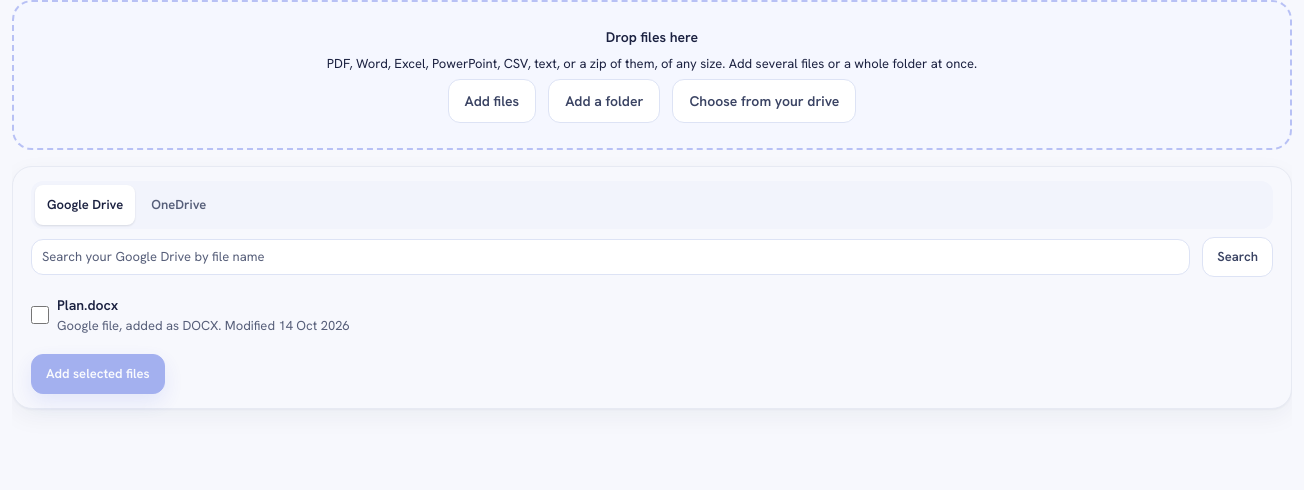
Scenario: Google Drive: files are listed by the server and an added one is fetched into the same path
expect the text "Plan.docx" is shown: met, box [57, 296, 118, 314]
expect the text "Google file, added as DOCX. Modified 14 Oct 2026" is shown: met, box [57, 317, 350, 334]
Click the checkbox named "Select Plan.docx": (40, 315) [31, 306, 49, 324]
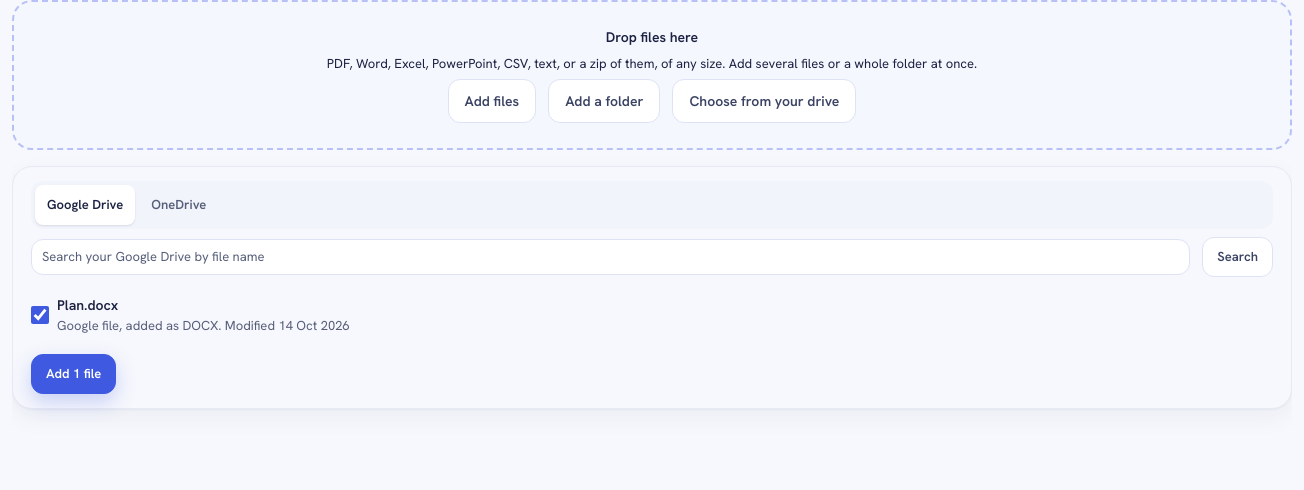
Click the button "Add 1 file": (74, 374) [31, 354, 116, 394]
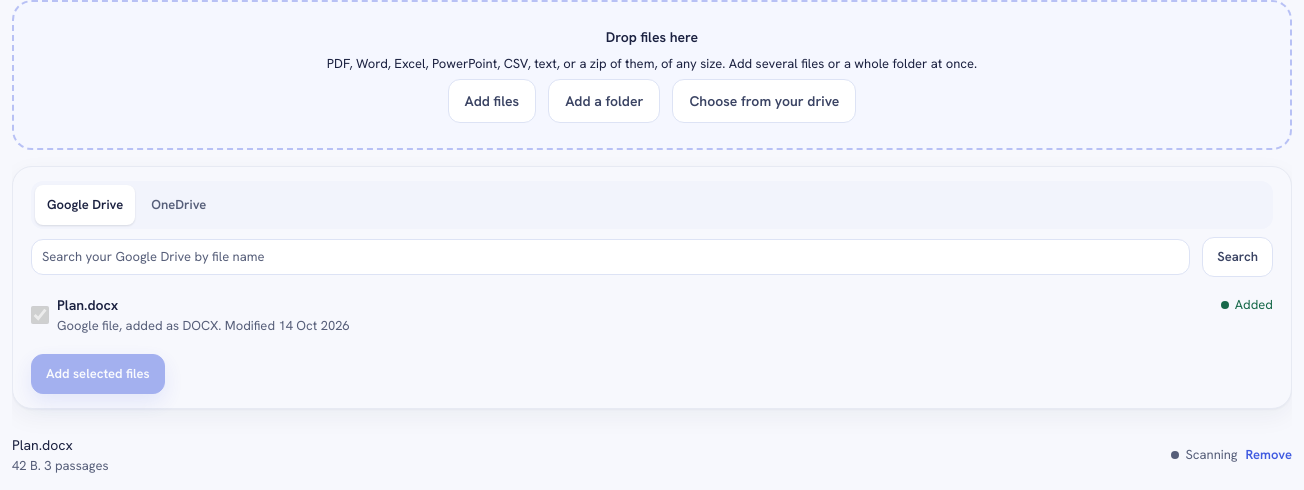
expect the text "Added" is shown: met, box [1221, 295, 1273, 314]
